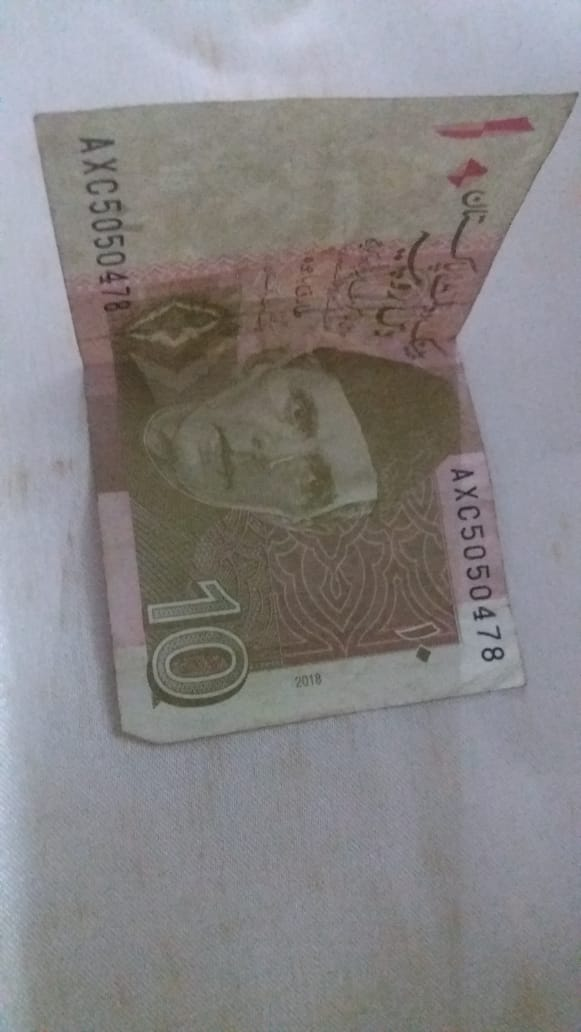10 rupee: (16, 86, 580, 740)
